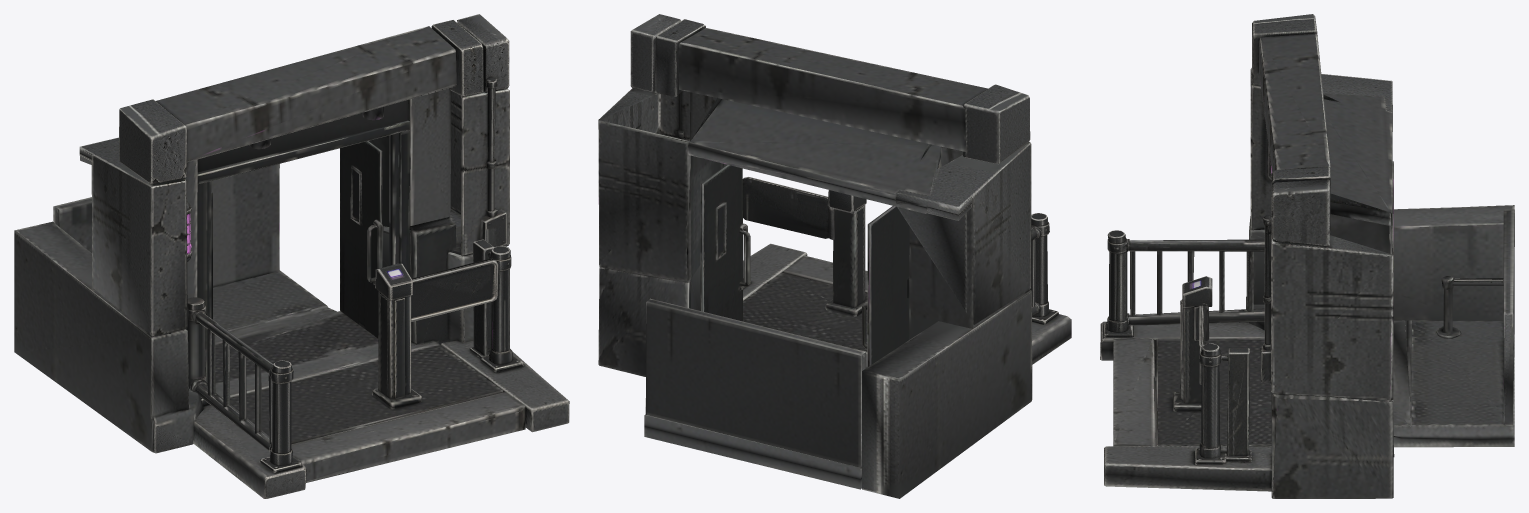
The model's file is entrance.glb.
3 renders of one model, left to right at view 1: azimuth 30°, elevation 25°; view 2: azimuth 150°, elevation 25°; view 3: azimuth 270°, elevation 25°, orthographic. The views are drawn at different scales.
Bounding box in the file's own units: 0.959 × 0.79 × 0.9556.
Materials: 1 (1 with a texture image).
